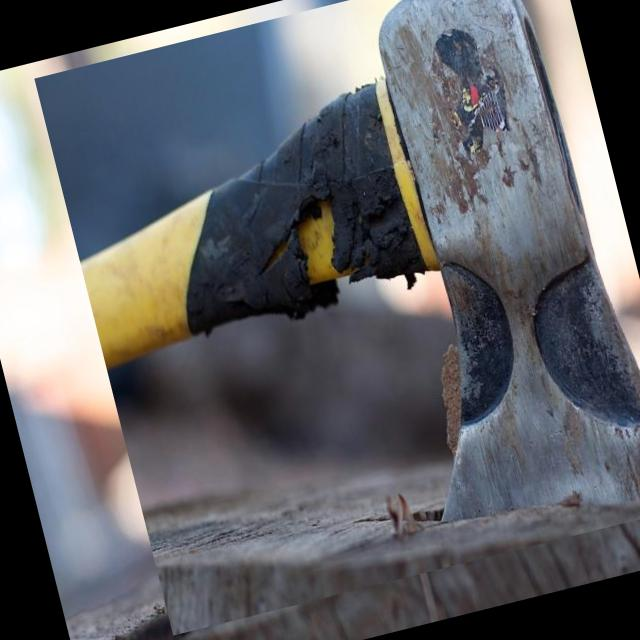Axe: (80, 0, 640, 527)
